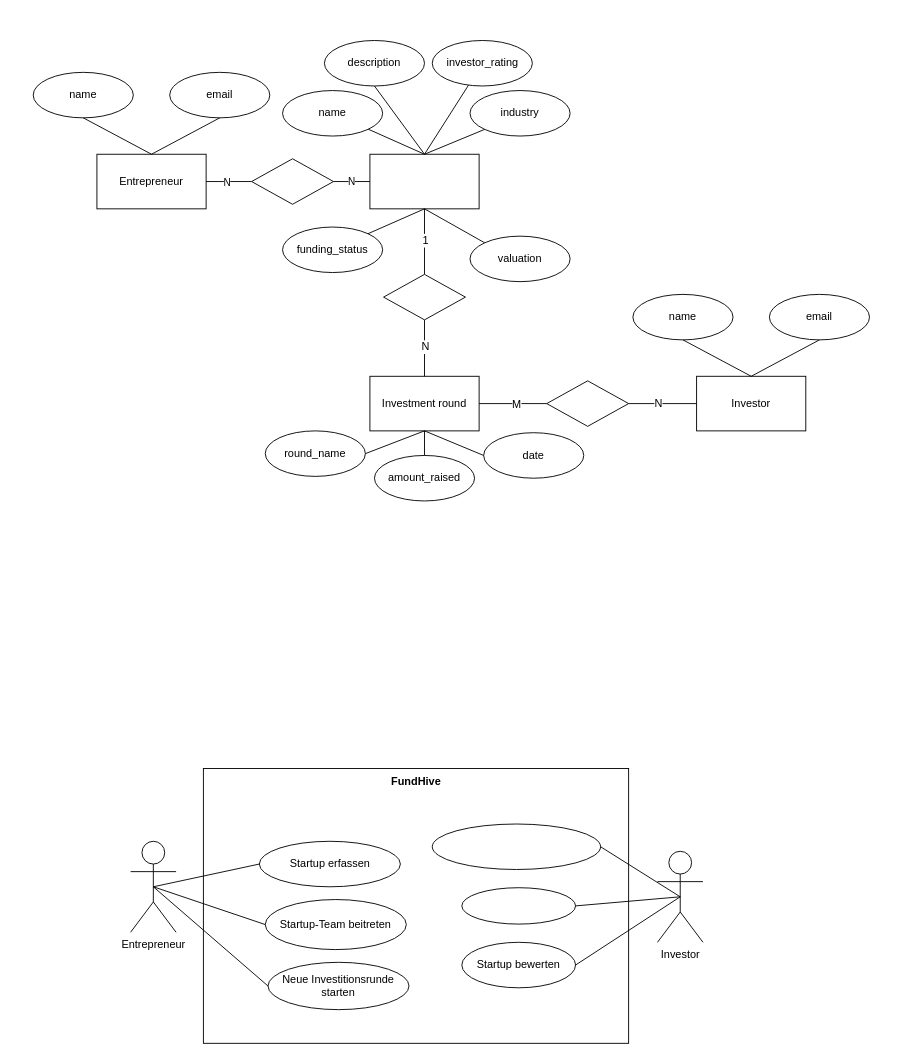
Image size: 905x1059. Some labels were removed from this diagram. Here are the shapes that lost their labels. From the top down, the box of each, then its label:
(251, 158, 334, 204): creates
(369, 153, 479, 209): Startup
(383, 273, 465, 320): launches
(546, 380, 629, 426): funds
(431, 823, 601, 870): Investitionsmöglichkeit suchen
(461, 887, 576, 924): Investieren
